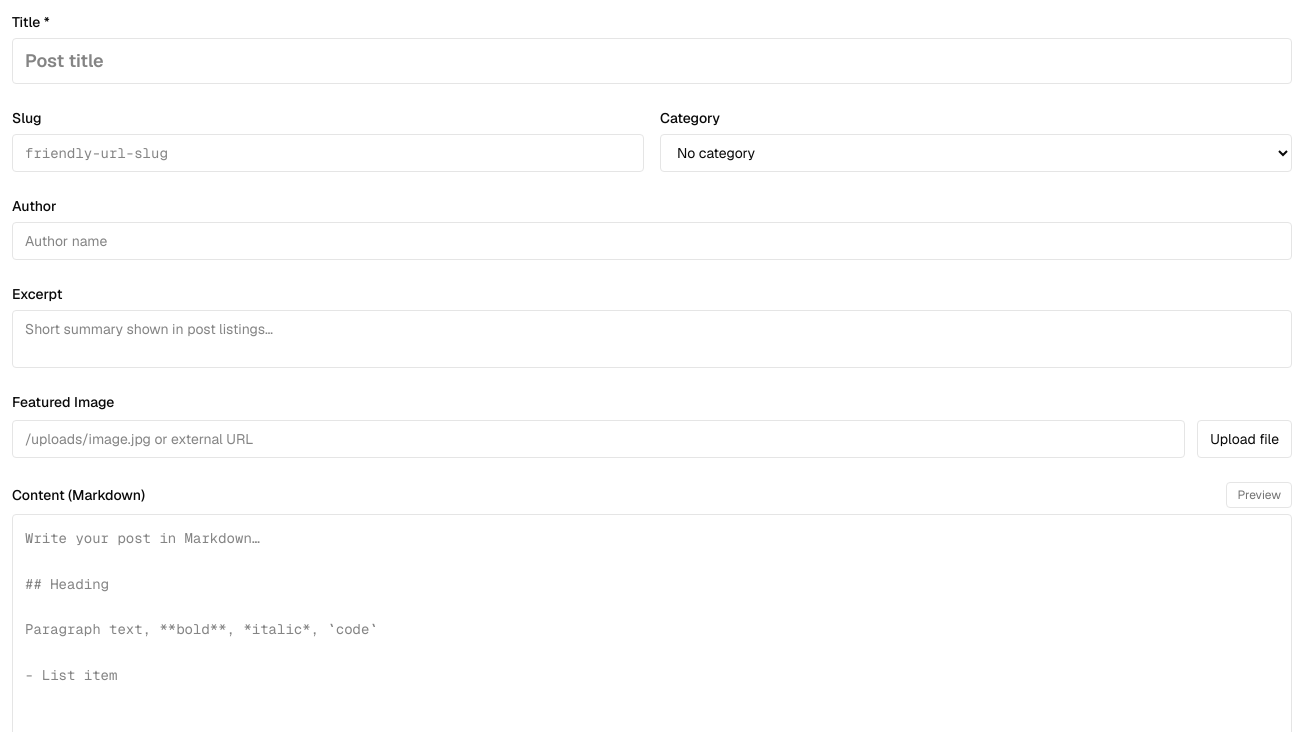
PostForm › slug manual edit › manually editing slug updates slug field with slugified value
In the field with placeholder "friendly-url-slug": x=328, y=153 [12,134,644,172], type "My Custom Slug"
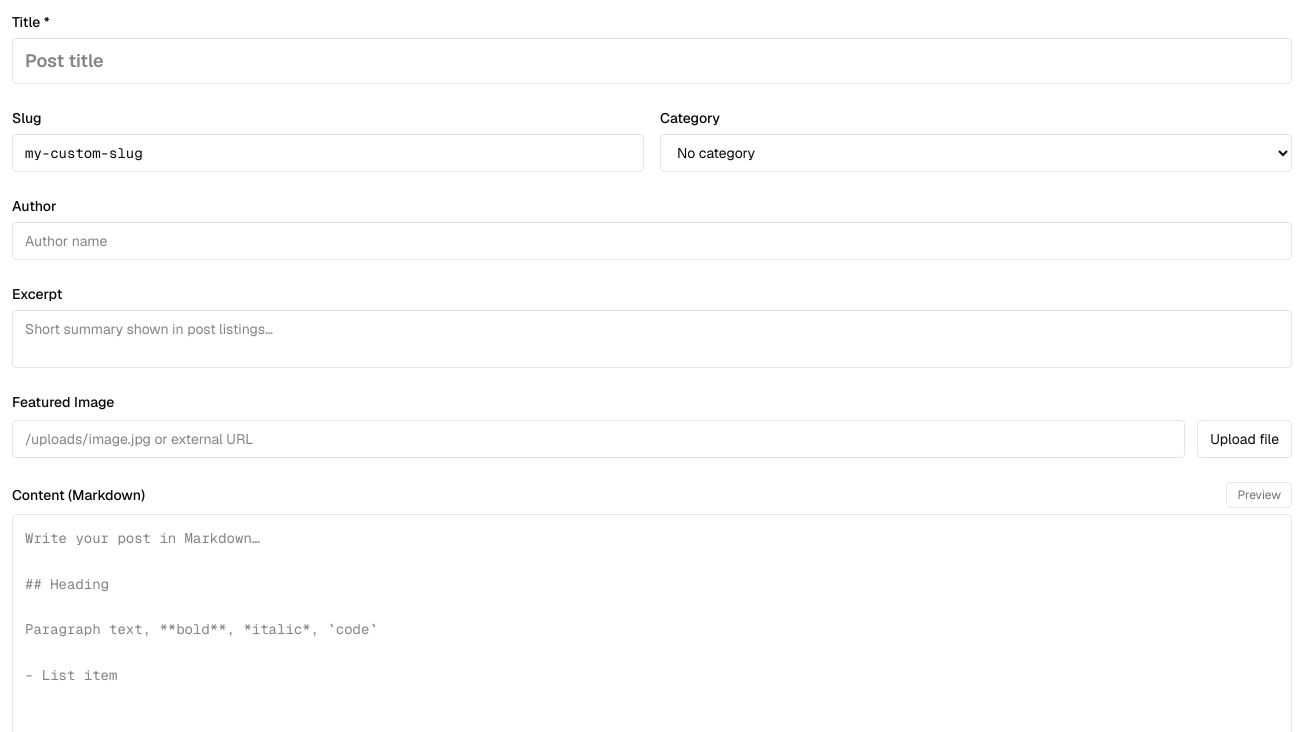
Expected: the field with placeholder "friendly-url-slug" holds "my-custom-slug", [12,134,644,172]
